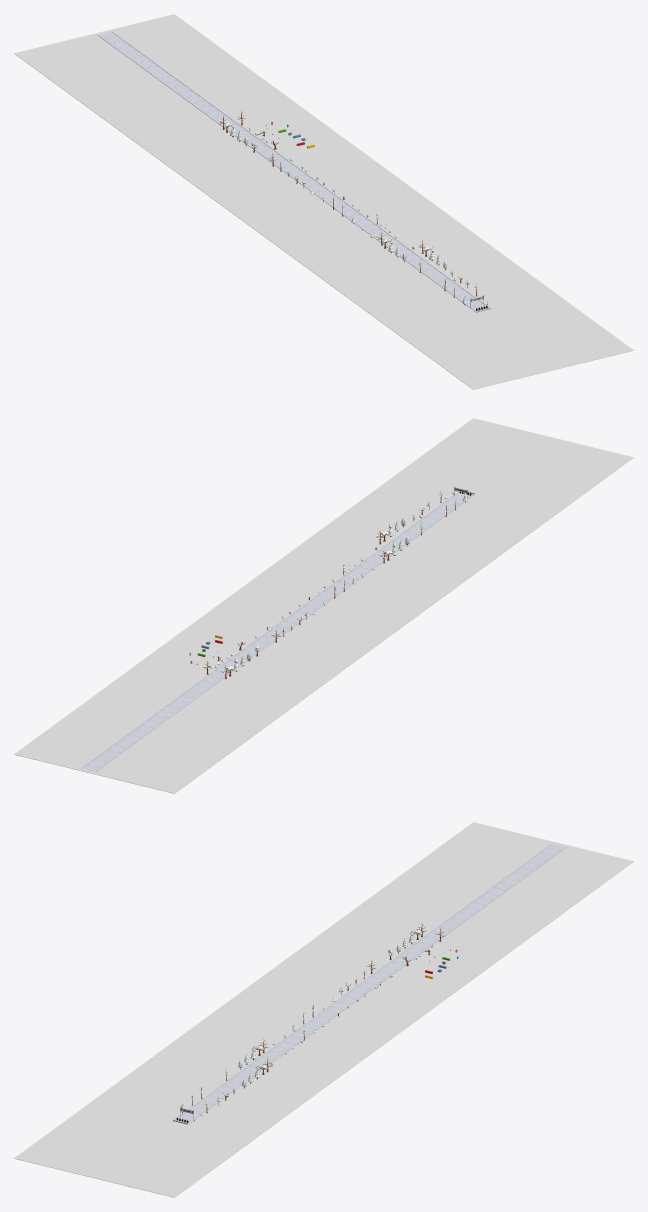
File: map7.glb
3 views of the same model, one above another, from view 1: azimuth 30°, elevation 25°; view 2: azimuth 150°, elevation 25°; view 3: azimuth 330°, elevation 25° (orthographic).
Visible parts, largest first — view 1: ground, snowblock-area, left_ground, right_ground; view 2: ground, snowblock-area, left_ground, right_ground; view 3: ground, snowblock-area, right_ground, left_ground.
Boxes of the visible parts, <box> form: ground: <box>14,14,633,389</box>; snowblock-area: <box>99,32,488,311</box>; left_ground: <box>112,31,489,307</box>; right_ground: <box>97,35,476,312</box>; ground: <box>14,418,633,793</box>; snowblock-area: <box>82,492,473,771</box>; left_ground: <box>81,491,459,768</box>; right_ground: <box>95,494,474,771</box>; ground: <box>14,822,633,1197</box>; snowblock-area: <box>175,844,565,1123</box>; right_ground: <box>174,843,551,1119</box>; left_ground: <box>188,847,566,1123</box>.
Size of the model in its own units: 240 by 24.84 by 1189.
Materials: 12 (10 with a texture image).
